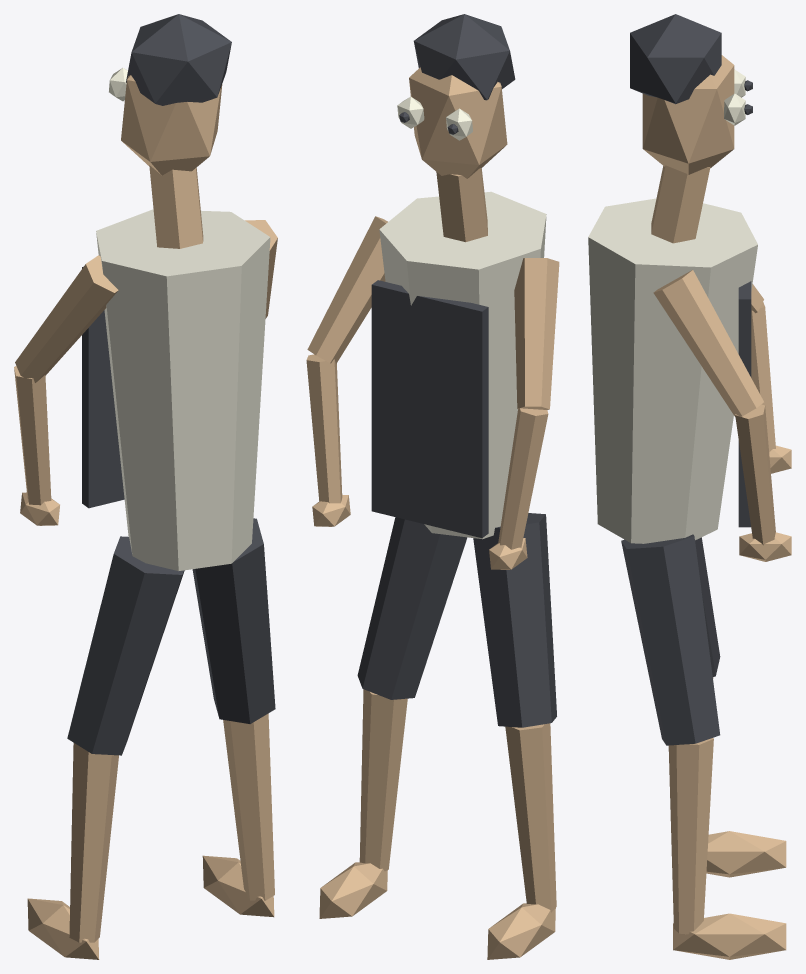
The model's file is GrillMaster.fbx.
The picture shows the model from 3 angles, left to right: view 1: azimuth 30°, elevation 25°; view 2: azimuth 150°, elevation 25°; view 3: azimuth 270°, elevation 25°; orthographic projection. The views are drawn at different scales.
Visible parts, largest first — view 1: Torso, Shorts1, Shorts-1, Hair, Calf1, Calf-1, Head, Apron, Arm1, Neck, Forearm1, Foot1 (+3 smaller); view 2: Apron, Torso, Shorts1, Shorts-1, Head, Calf1, Calf-1, Arm1, Hair, Arm-1, Forearm-1, Forearm1 (+7 smaller); view 3: Torso, Shorts-1, Calf-1, Head, Hair, Arm-1, Foot-1, Forearm-1, Neck, Foot1, Forearm1, Apron (+4 smaller).
Boxes of the visible parts, box(x1,y1,x2,y2) form: Torso: box(96, 209, 270, 570); Shorts1: box(67, 536, 184, 755); Shorts-1: box(192, 518, 275, 723); Hair: box(126, 14, 231, 105); Calf1: box(69, 743, 118, 942); Calf-1: box(223, 713, 274, 900); Head: box(121, 75, 222, 175); Apron: box(82, 266, 124, 508); Arm1: box(15, 255, 118, 382); Neck: box(149, 165, 203, 248); Forearm1: box(14, 366, 51, 505); Foot1: box(27, 898, 99, 959); Apron: box(371, 280, 488, 537); Torso: box(379, 191, 546, 539); Shorts1: box(473, 513, 556, 727); Shorts-1: box(357, 517, 467, 699); Head: box(409, 67, 507, 178); Calf1: box(505, 723, 556, 912); Calf-1: box(359, 689, 407, 871); Arm1: box(514, 258, 559, 409); Hair: box(413, 14, 515, 100); Arm-1: box(307, 216, 387, 363); Forearm-1: box(306, 354, 342, 503); Forearm1: box(498, 408, 548, 549); Torso: box(588, 198, 757, 543); Shorts-1: box(621, 534, 720, 745); Calf-1: box(668, 738, 713, 934); Head: box(642, 55, 734, 174); Hair: box(630, 14, 721, 104); Arm-1: box(653, 270, 763, 416); Foot-1: box(673, 913, 786, 959); Forearm-1: box(735, 404, 775, 545); Neck: box(651, 165, 710, 243); Foot1: box(706, 831, 786, 877); Forearm1: box(751, 302, 775, 452); Apron: box(738, 281, 751, 527).
Size of the model in its own units: 0.543 by 1.95 by 0.3966.
